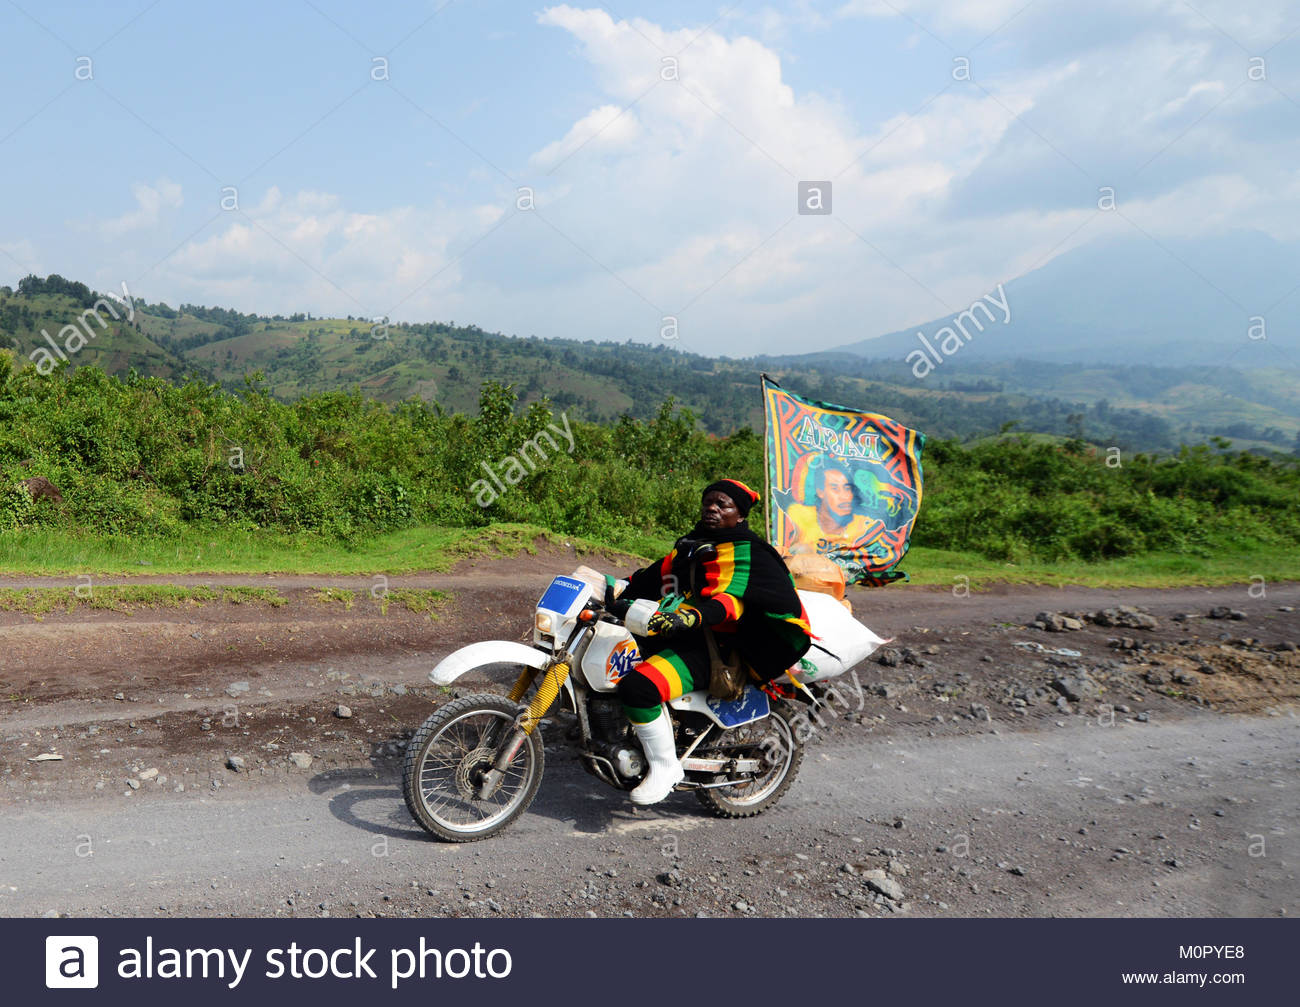motorbike: (397, 536, 912, 874)
